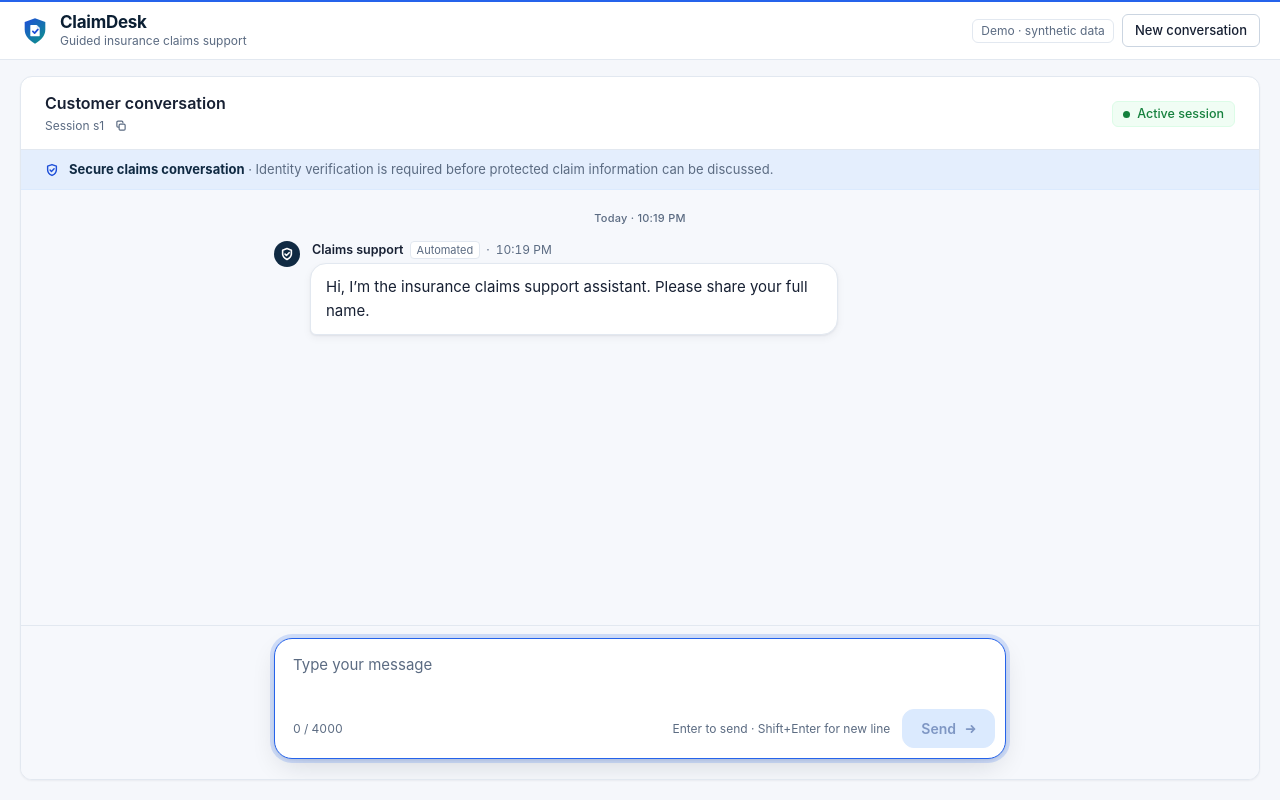
sending messages › sends the message with the session id and shows the reply
The width and height of the screenshot is (1280, 800).
Expected: the text "Hi, I’m the insurance claims support assistant. Please share your full name." is shown, [326,275,822,323]
Type "Why was it denied?" into the text box labelled "your message".
click(640, 671); type("Why was it denied?")  # box [275,639,1005,703]
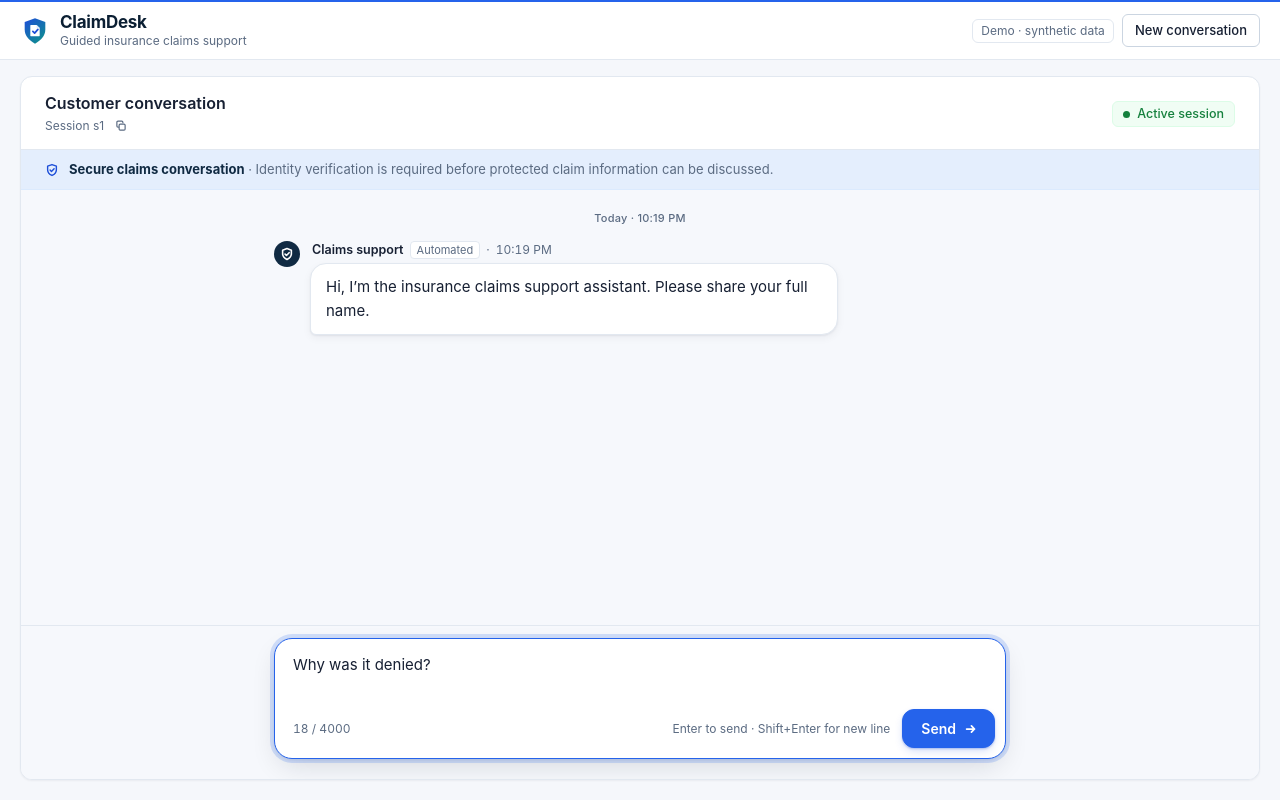
Click the button "Send".
click(949, 728)  # box [902,709,995,748]
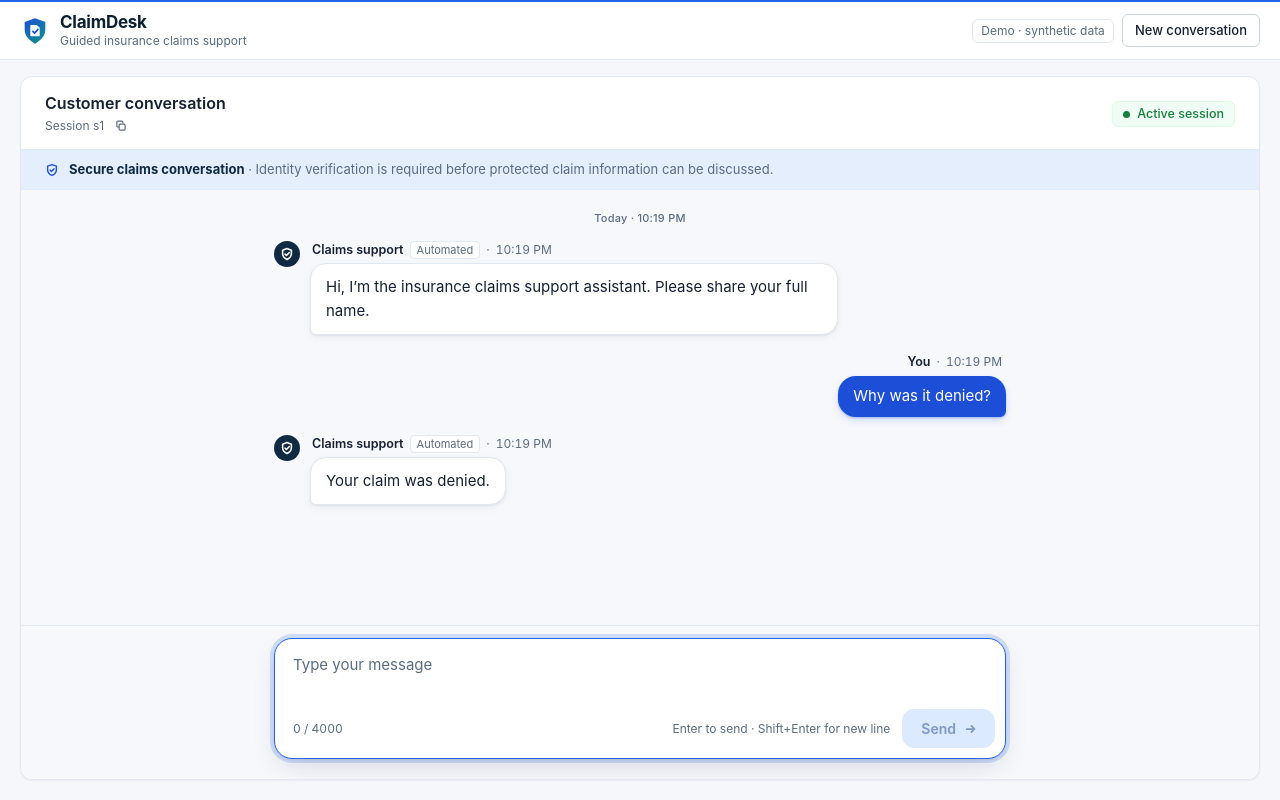
Expected: the text "Your claim was denied." is shown, [326,469,490,493]
Expected: the text "Why was it denied?" is shown, [838,376,1006,416]
Expected: the text box labelled "your message" is empty, [275,639,1005,703]
